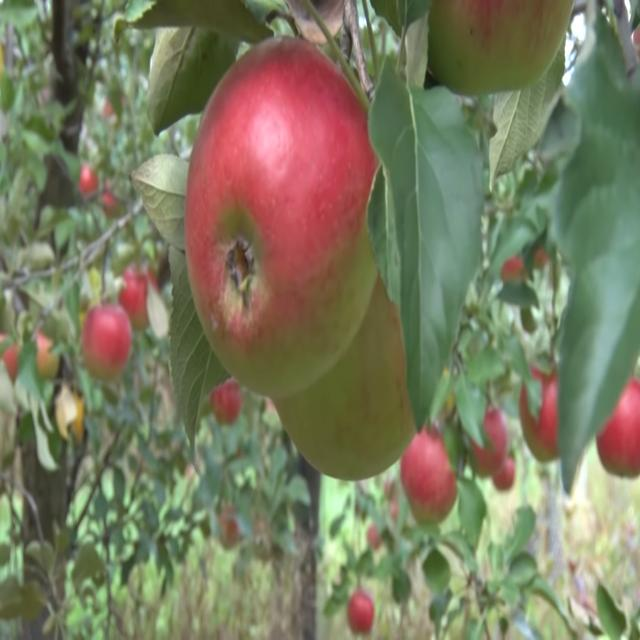100-_ripeness: (190, 38, 372, 397), (276, 303, 416, 479), (422, 0, 576, 86), (518, 342, 563, 461), (405, 433, 456, 525), (77, 300, 135, 376), (597, 384, 640, 480), (468, 407, 507, 481), (118, 261, 154, 314), (210, 379, 241, 428), (344, 595, 377, 636)
